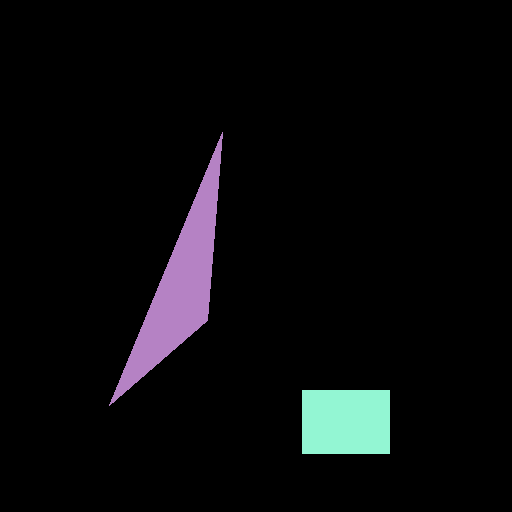rectangle: (302, 390, 389, 453)
triangle: (109, 132, 222, 405)
